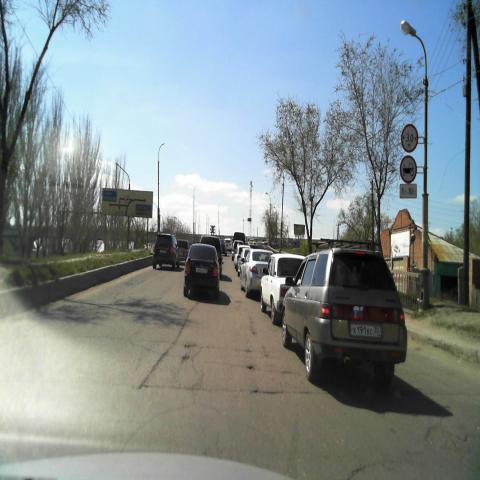3_14: (401, 123, 418, 153)
3_6: (400, 154, 417, 184)
8_5_4: (399, 185, 417, 199)
